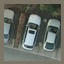car: (23, 17, 42, 49), (44, 19, 59, 51)
